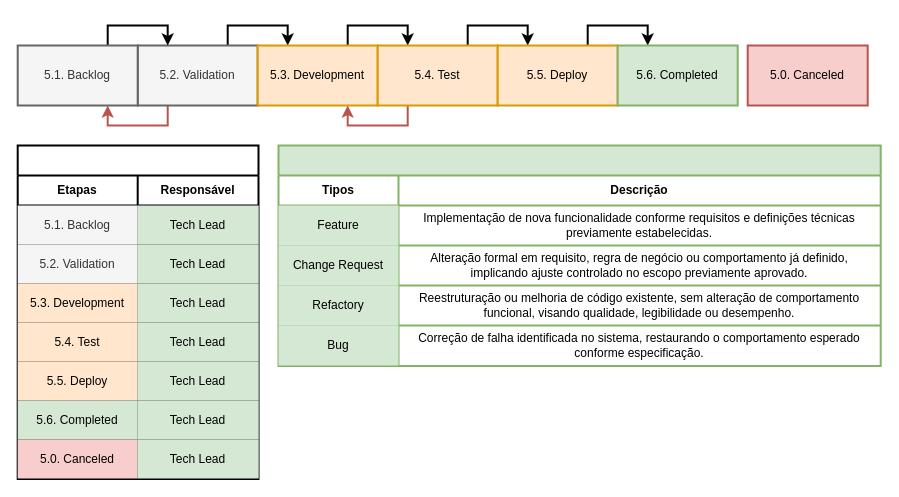
The diagram is 899 pixels wide and 497 high, and some of its shapes have lost their labels. Here are the shapes that lost their labels. From the top down, the box of each, then its label:
(277, 144, 881, 366): Execution - Tickets
(16, 144, 259, 480): Execution - Fluxo
